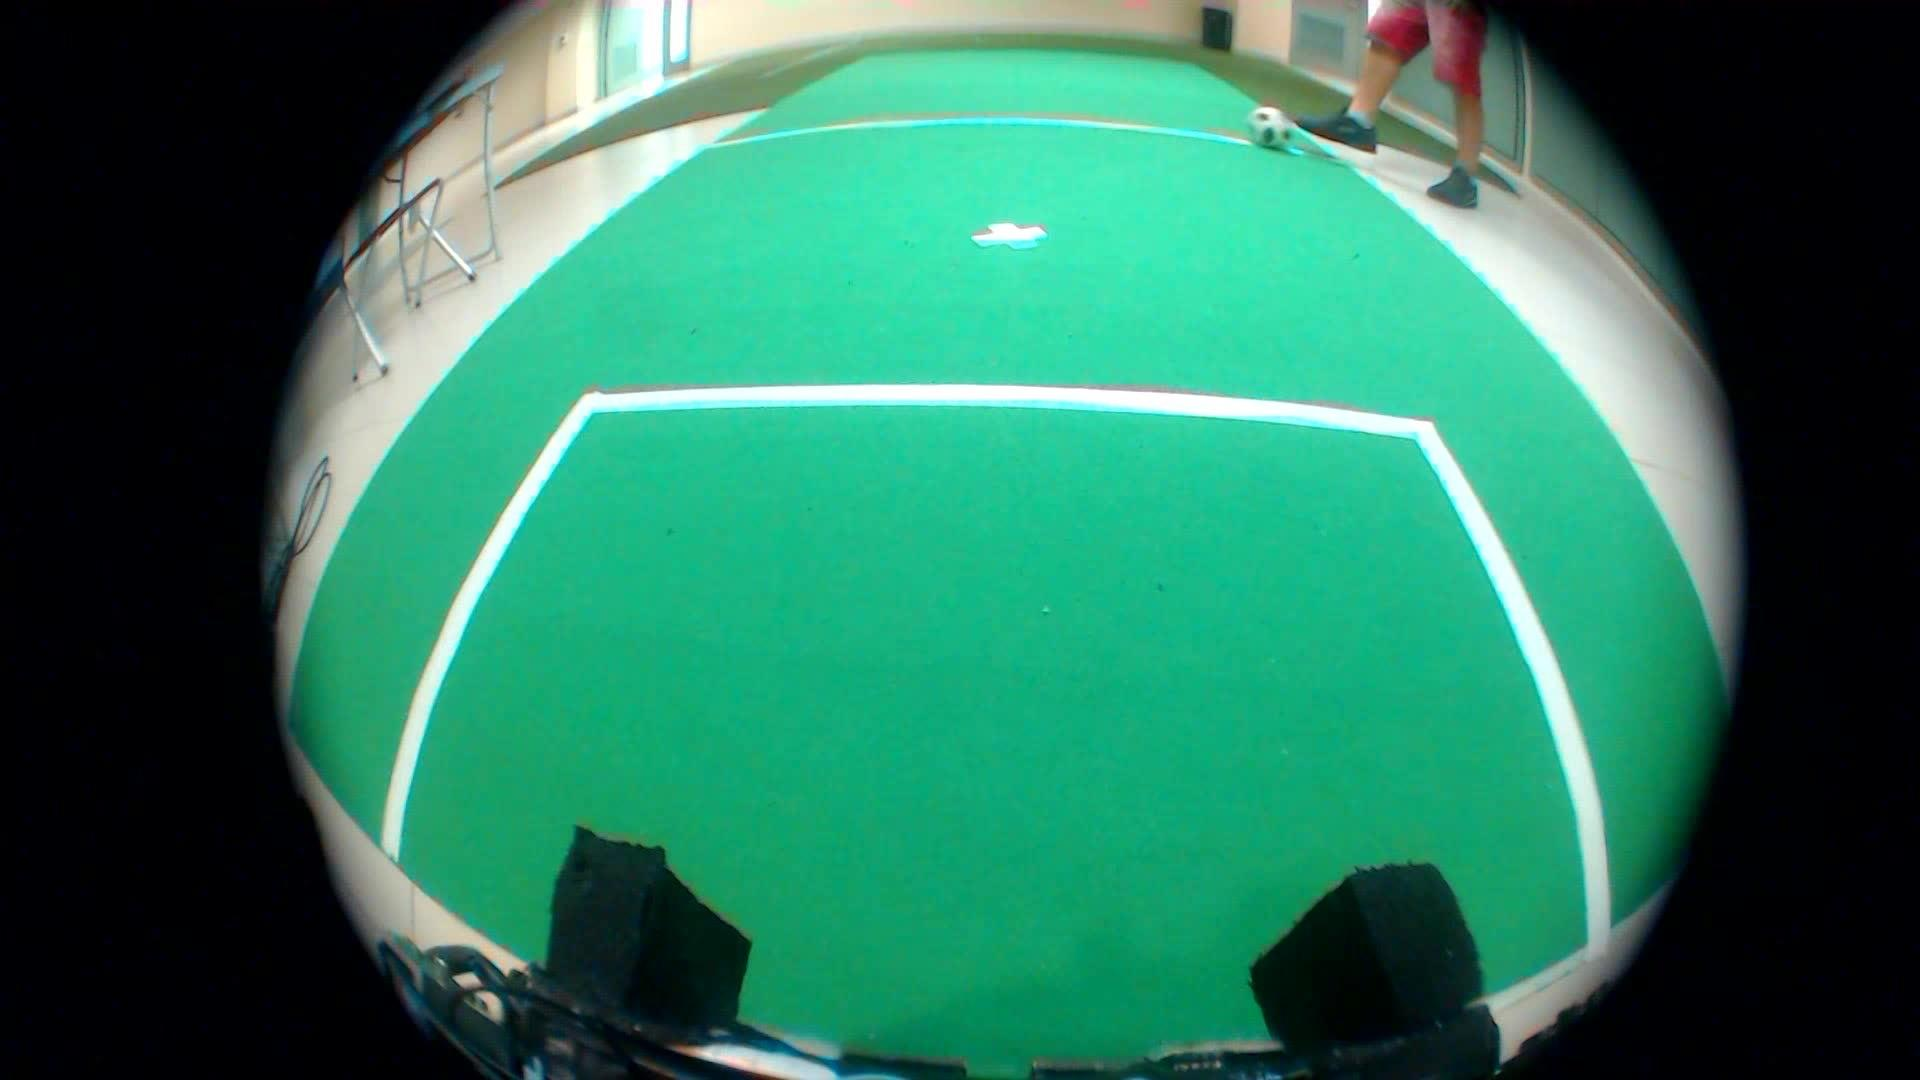ball: (1242, 92, 1292, 152)
